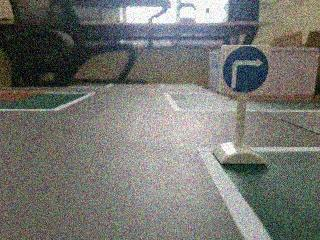right: (221, 40, 273, 102)
